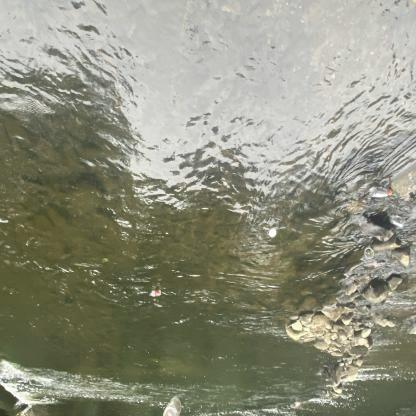Plastic: (159, 394, 186, 416), (366, 186, 396, 200), (146, 285, 164, 300)
